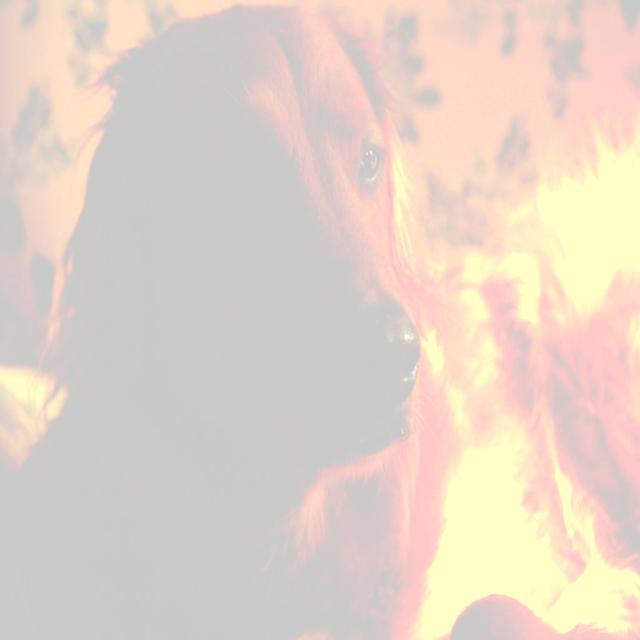Dog: (108, 0, 482, 626)
